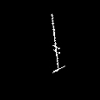treble_crochet: (52, 15, 60, 71)
